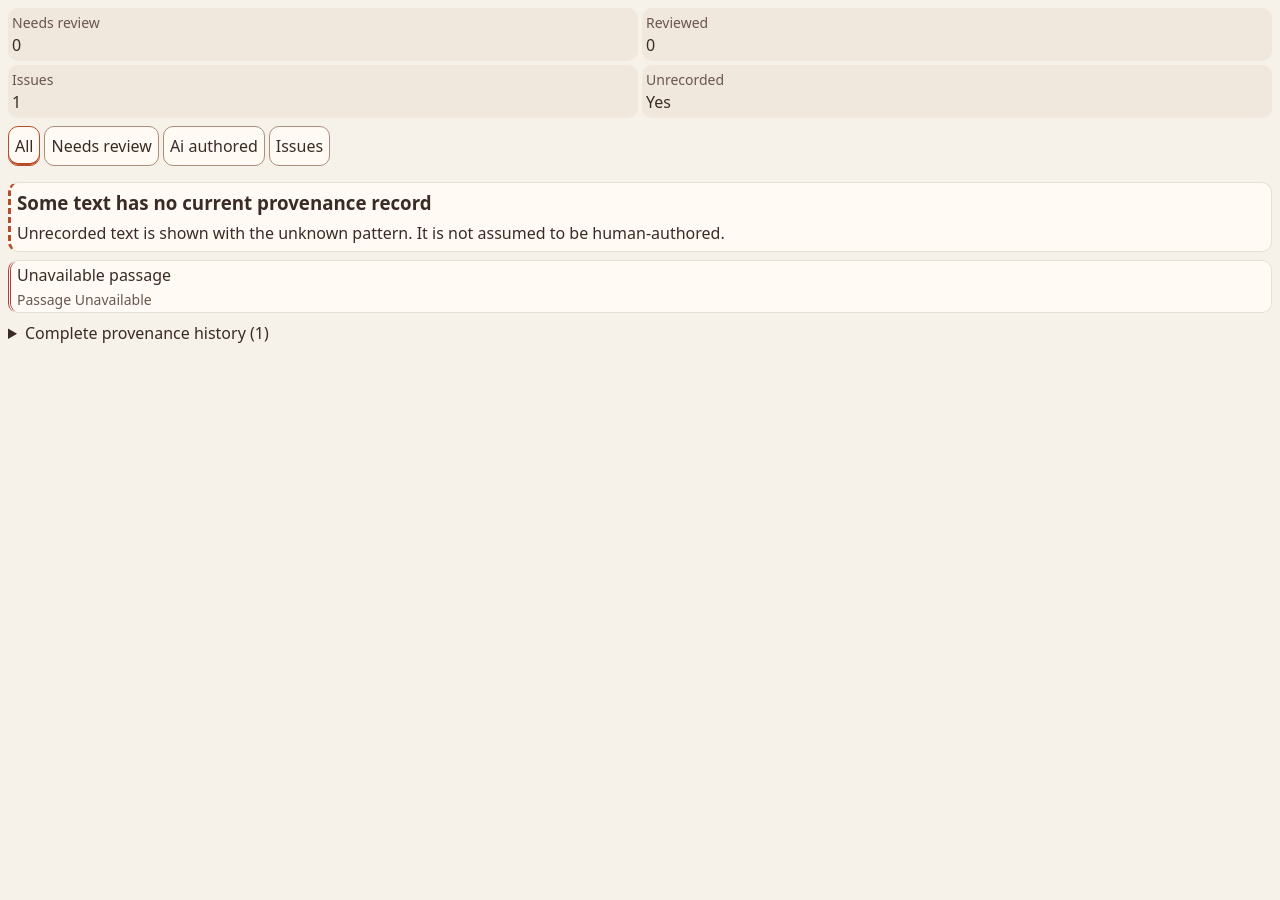
Test case: ProvenancePanel › labels an unavailable orphaned passage without document actions
The width and height of the screenshot is (1280, 900).
What coordinates should you click on to do the following:
click the button "Unavailable passage Passage unavailable"
I would click on:
 (94, 275)
Its box is [11,261,1271,312].
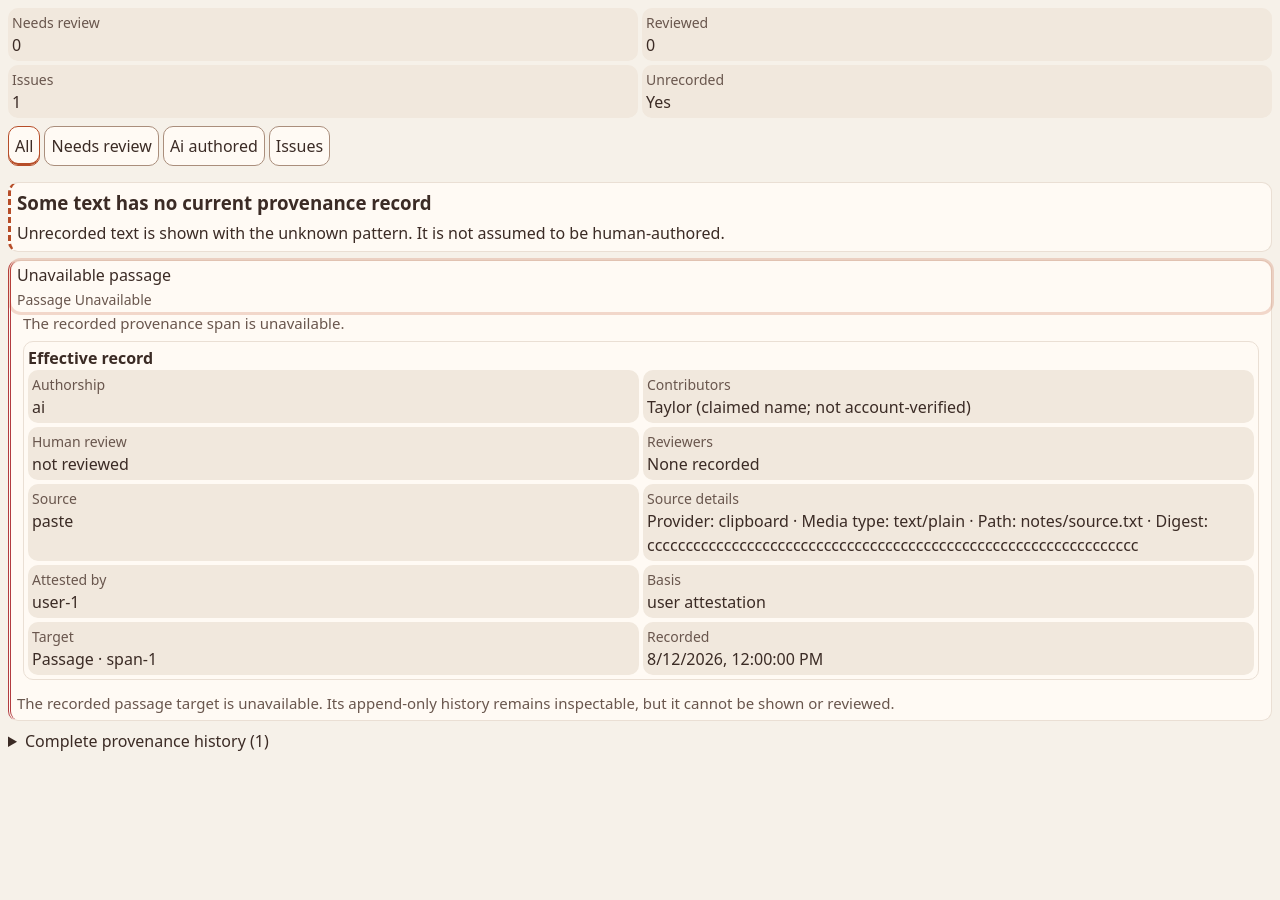
Expected: the text "append-only history remains inspectable" is shown, [17,693,895,713]
